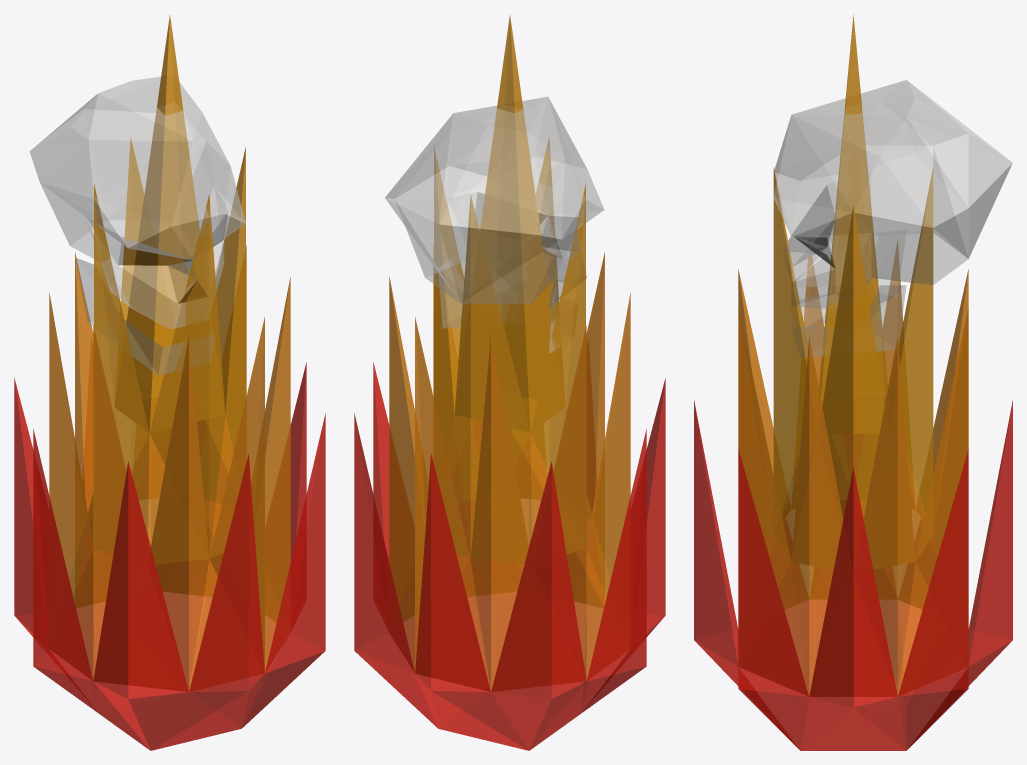
File: model_3078_spotanim.obj
The picture shows the model from 3 angles, left to right: view 1: azimuth 30°, elevation 25°; view 2: azimuth 150°, elevation 25°; view 3: azimuth 270°, elevation 25°; orthographic projection.
Visible parts, largest first — view 1: 3078; view 2: 3078; view 3: 3078.
Part boxes in pixels (x1,y1,x2,y2): 3078: (14,15,325,750); 3078: (354,15,665,750); 3078: (694,14,1012,750).
Bounding box in the file's own units: 36 × 89 × 36.
